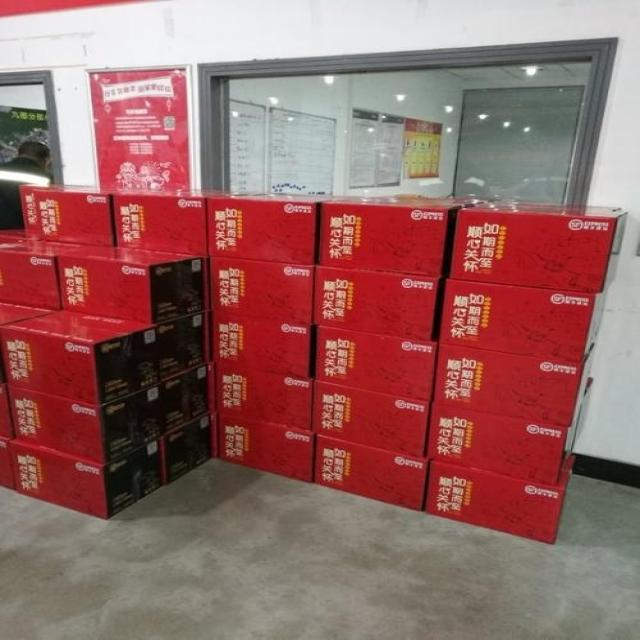box: (450, 199, 631, 292), (422, 386, 592, 482), (5, 307, 156, 406), (438, 279, 607, 363), (315, 196, 492, 275), (428, 342, 597, 424), (12, 437, 168, 521), (421, 458, 574, 543), (6, 382, 162, 464), (56, 243, 205, 320), (204, 190, 339, 265), (311, 323, 437, 400), (313, 265, 442, 340), (312, 434, 428, 513), (314, 381, 434, 455), (2, 235, 112, 307), (207, 256, 313, 328), (211, 309, 316, 380), (112, 186, 217, 256), (218, 411, 315, 482), (212, 366, 316, 432), (22, 185, 114, 242), (152, 308, 209, 385), (152, 366, 214, 434), (162, 411, 218, 482), (0, 436, 16, 489), (4, 228, 24, 246)
